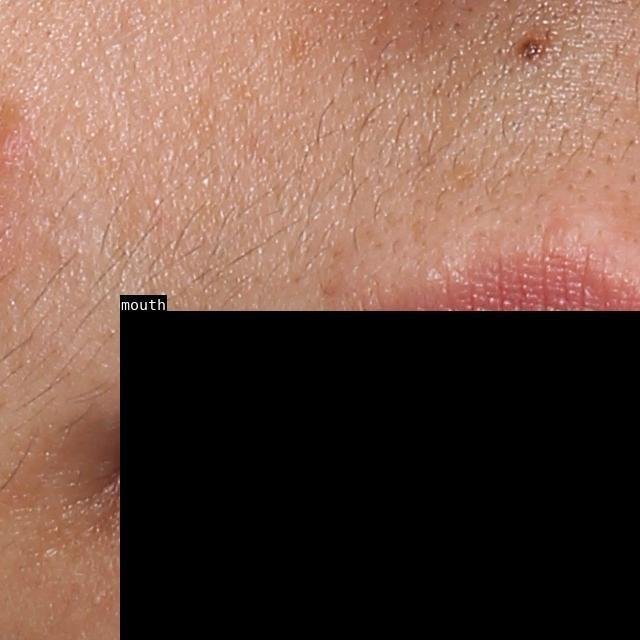nevus: (514, 34, 549, 66)
